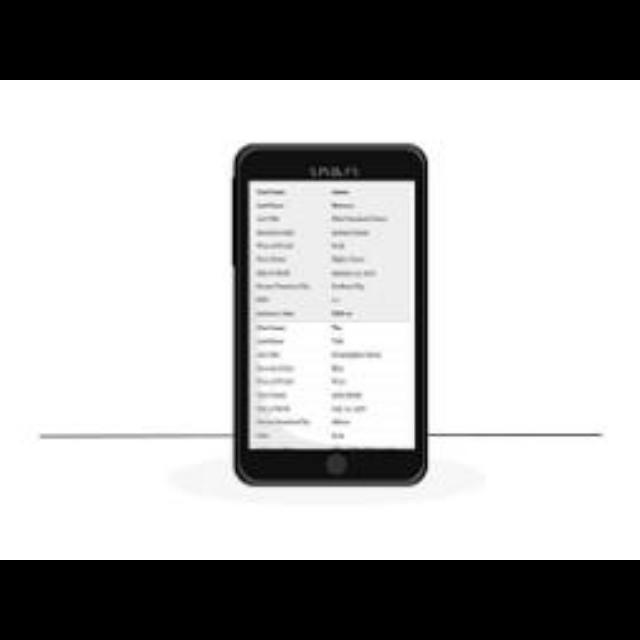fake: (234, 140, 428, 480)
